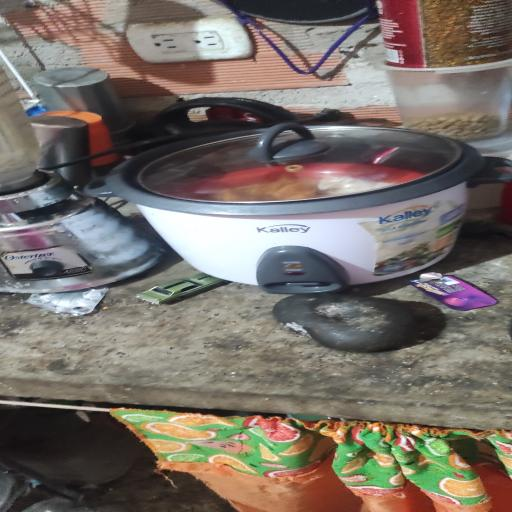Carrito: (137, 273, 228, 304)
